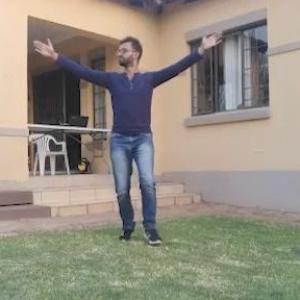takeoff: (37, 22, 228, 231)
